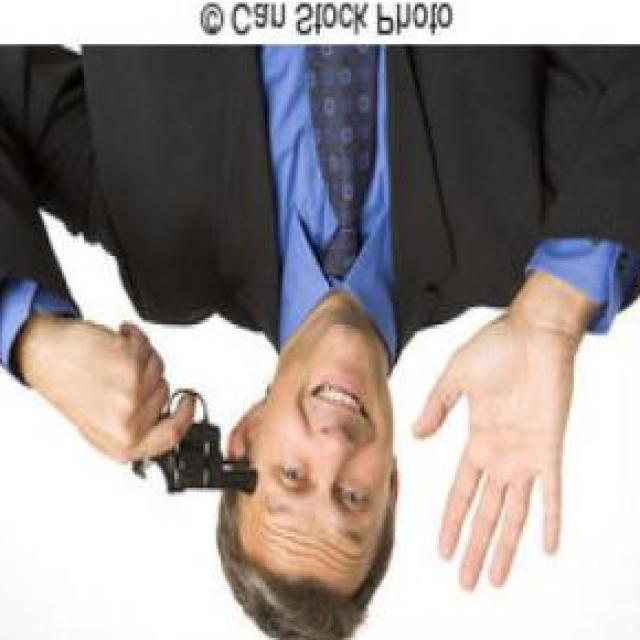pistol: (133, 383, 260, 499)
